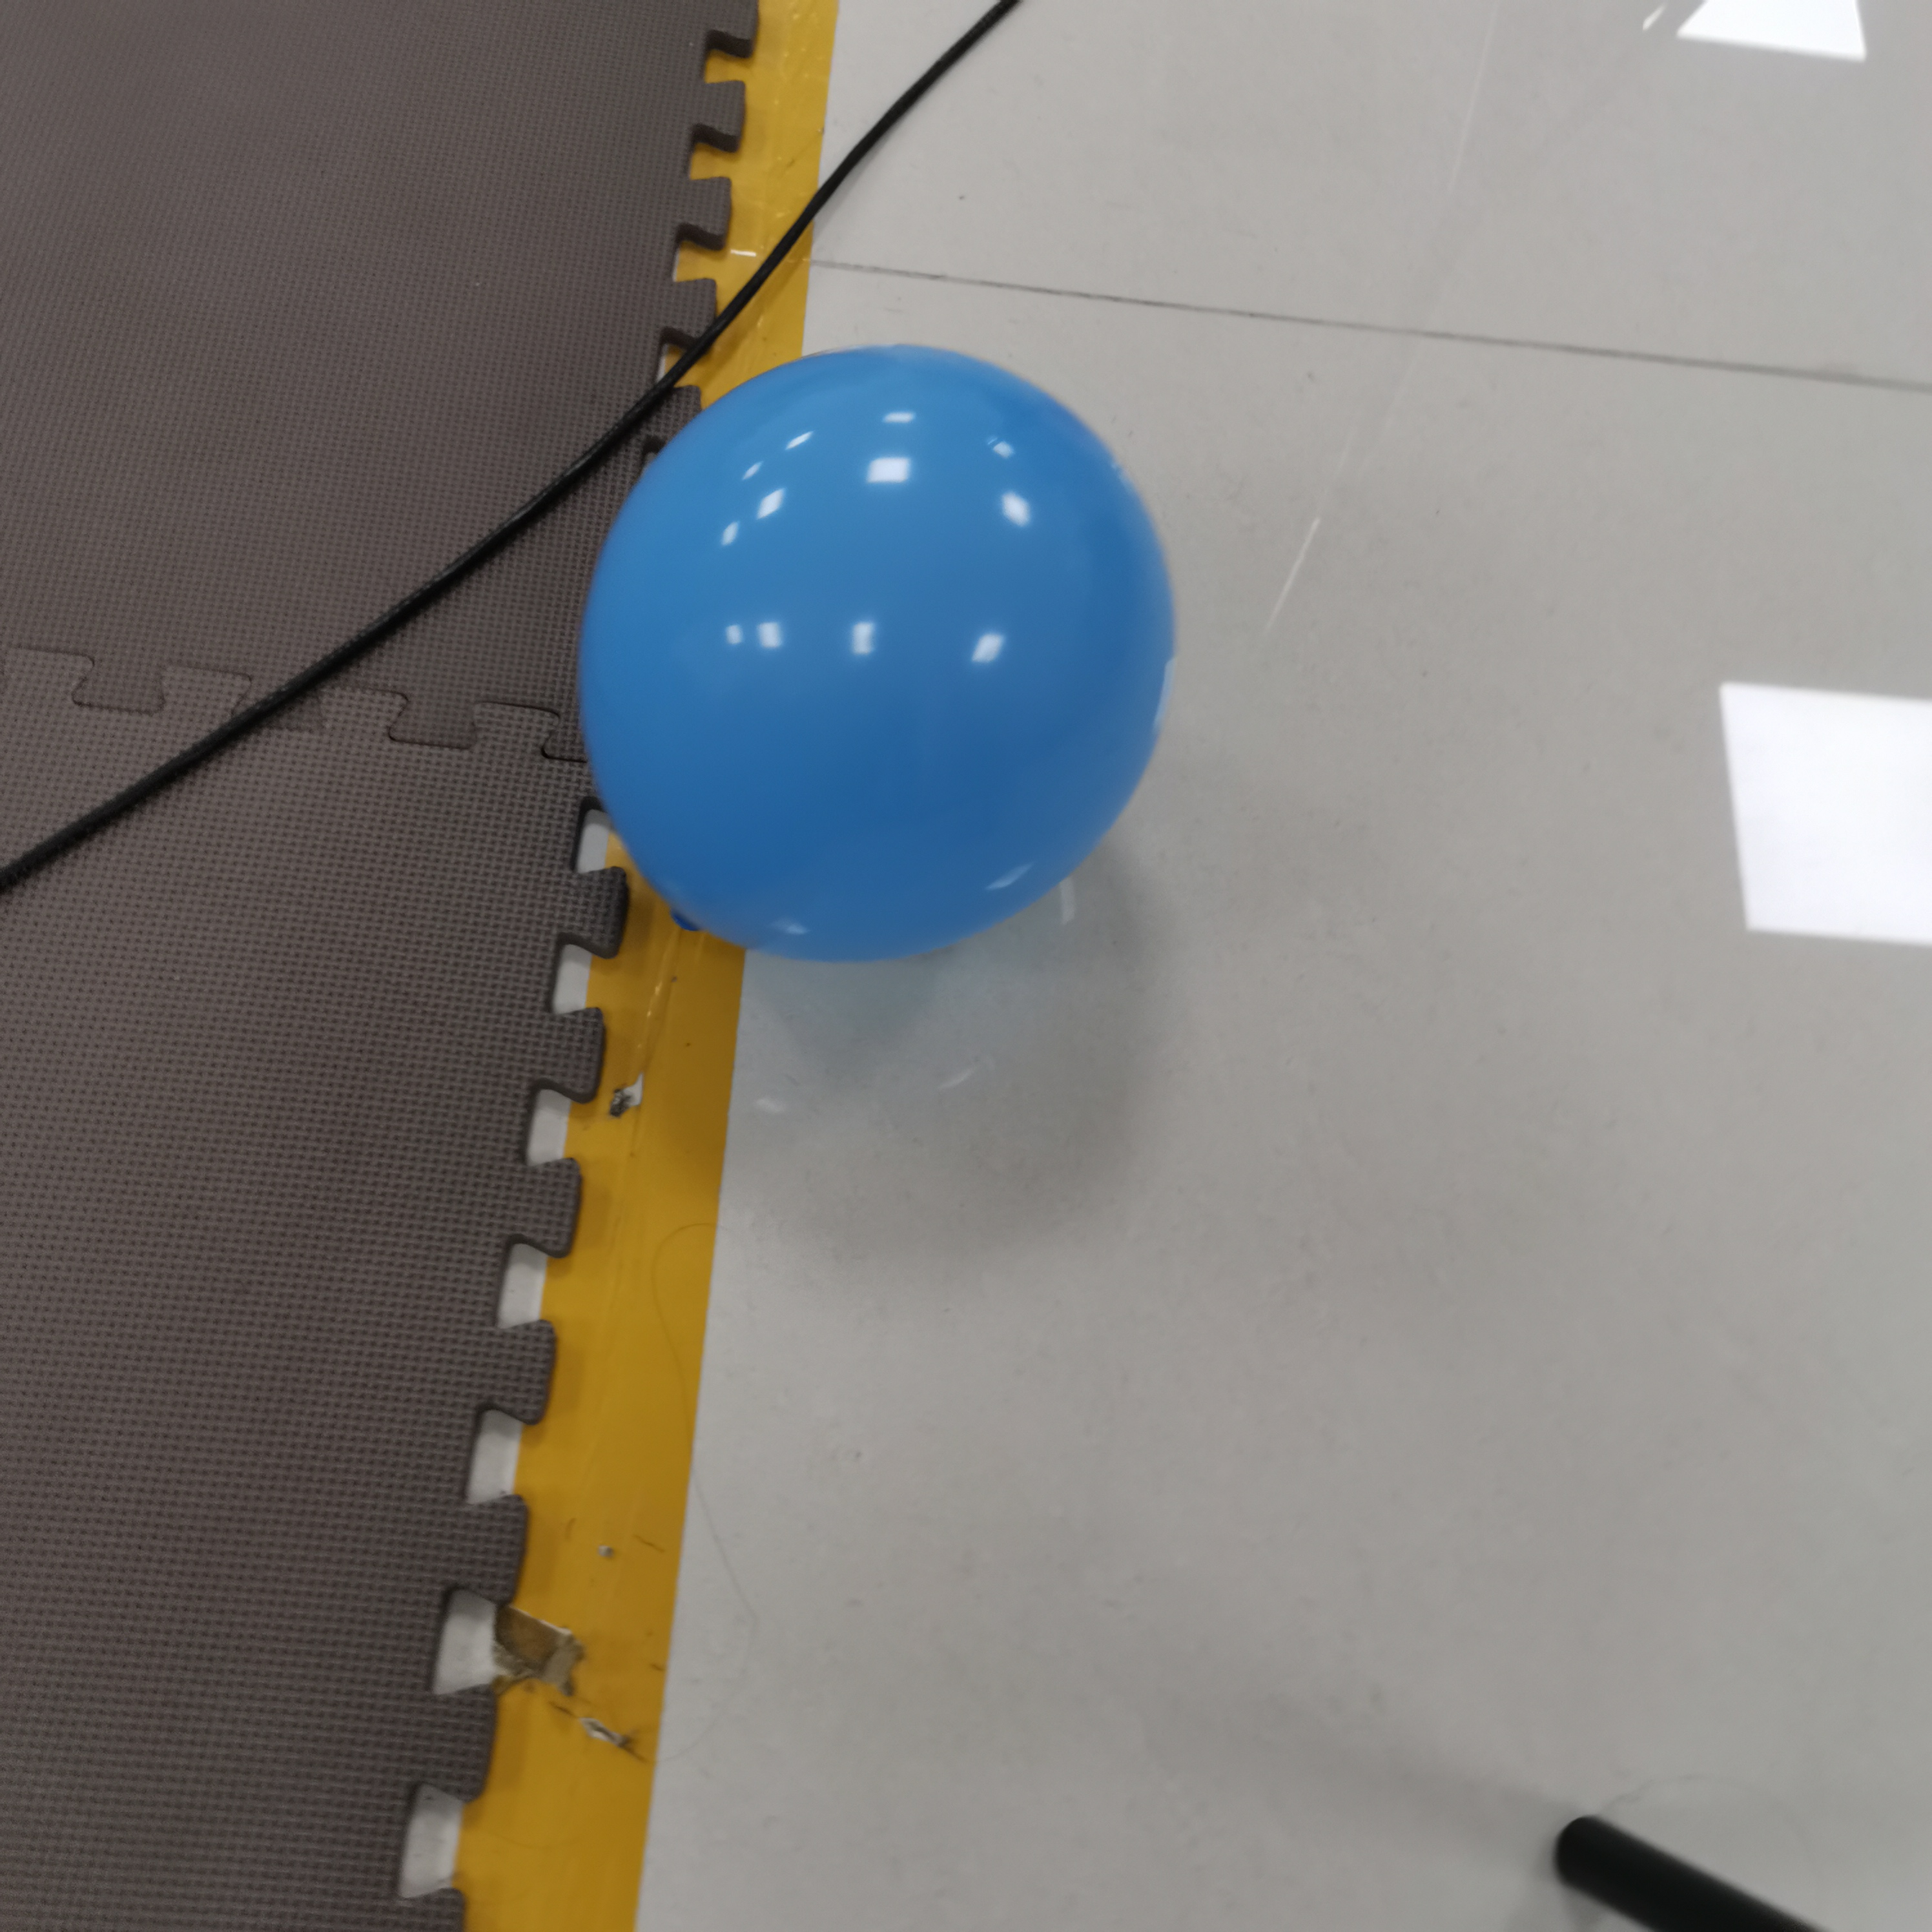balloon: (579, 341, 1173, 966)
